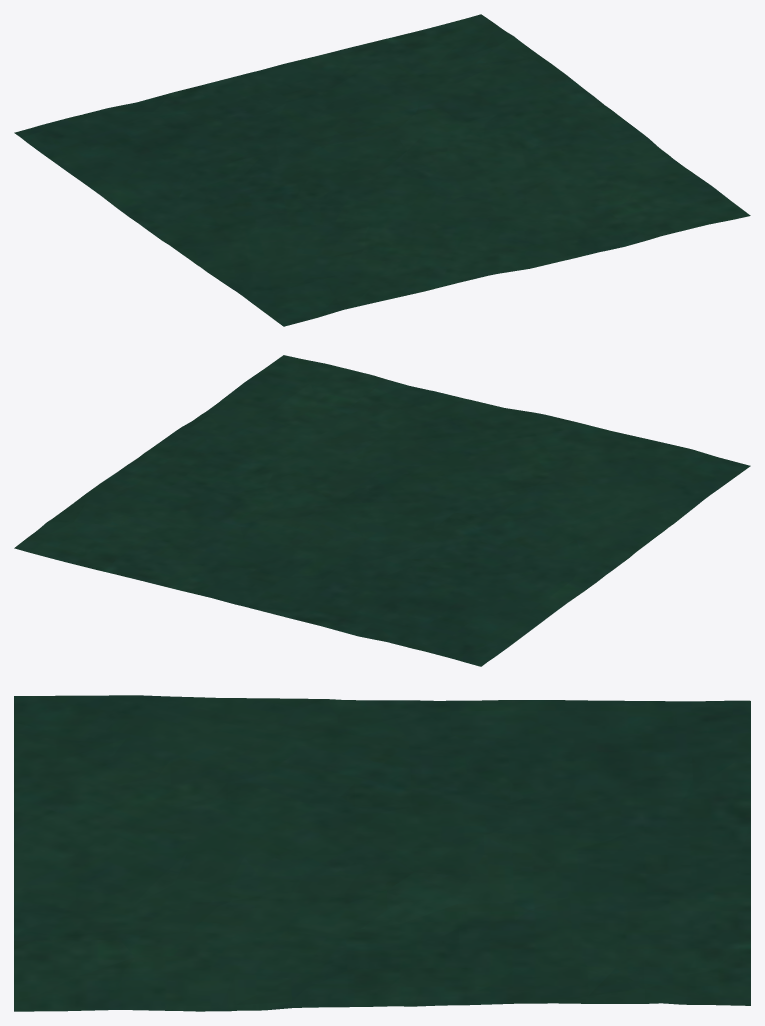
3 renders of one model, top to bottom at view 1: azimuth 30°, elevation 25°; view 2: azimuth 150°, elevation 25°; view 3: azimuth 270°, elevation 25°, orthographic. The views are drawn at different scales.
Size of the model in its own units: 52.22 by 0.8224 by 52.22.
2 materials, 2 textured.
